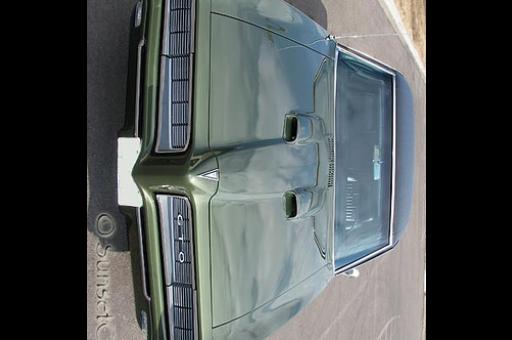Cheetah: (106, 0, 420, 340)
